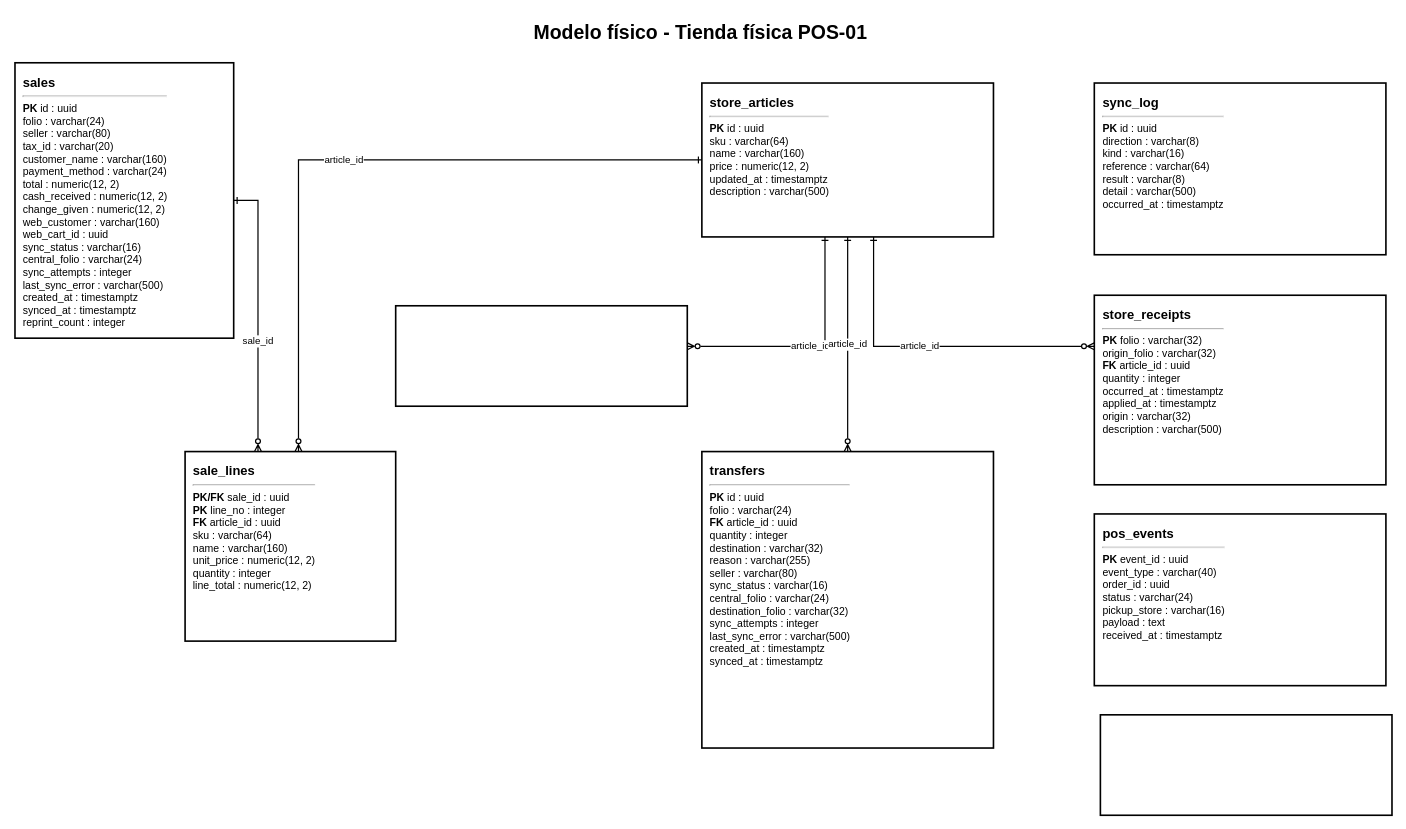
Some shapes in this 1406 by 829 pixel diagram are drawn without their labels. The centre of each missing label's shape, as x and y in pixels:
"stock_events PK event_id : uuid folio : varchar(40) received_at : timestamptz" goes at point (1245, 765).
"store_stock PK/FK article_id : uuid quantity : integer updated_at : timestamptz" goes at point (541, 356).
